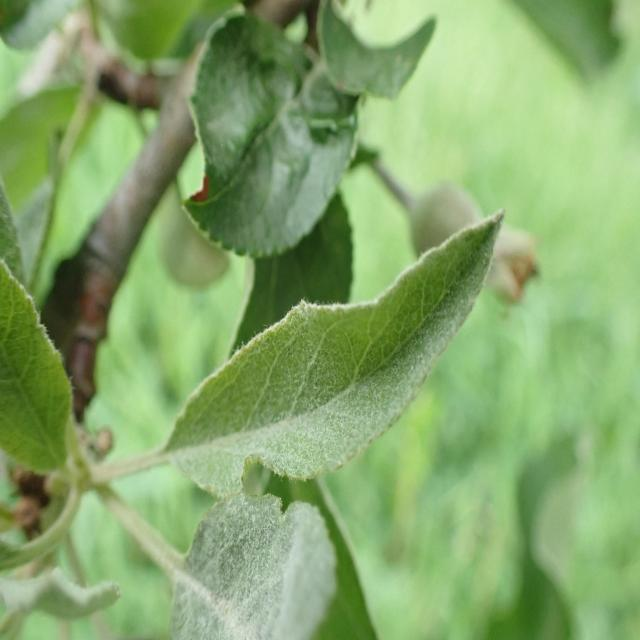Powdery_mildew: (95, 206, 533, 466), (116, 476, 362, 640)
